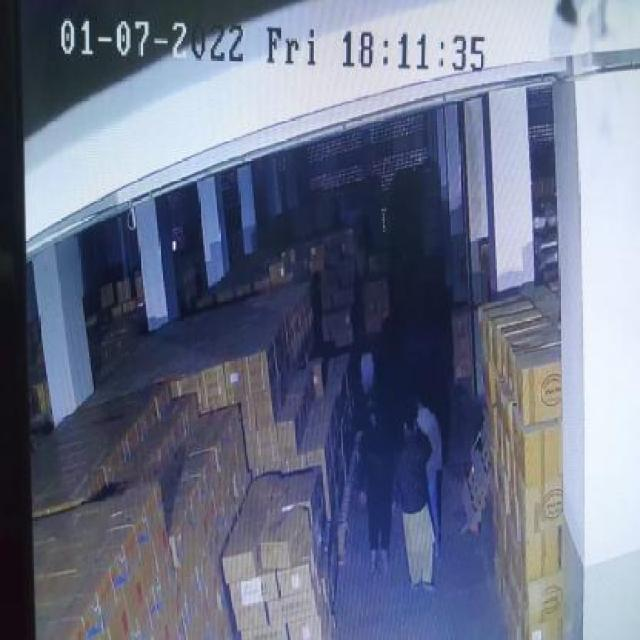fire: (355, 346, 377, 399)
